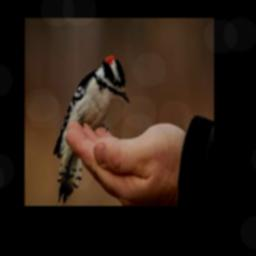Woodpecker: (53, 54, 130, 205)
